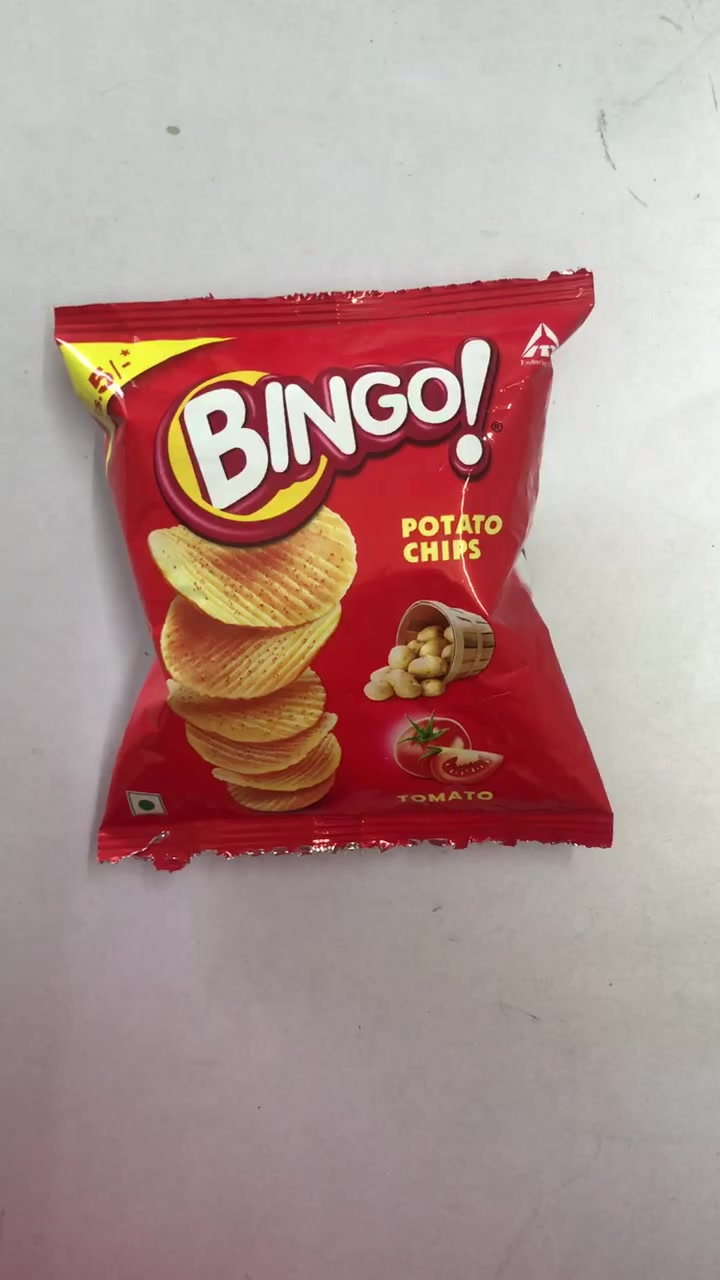Bingo: (56, 303, 609, 864)
